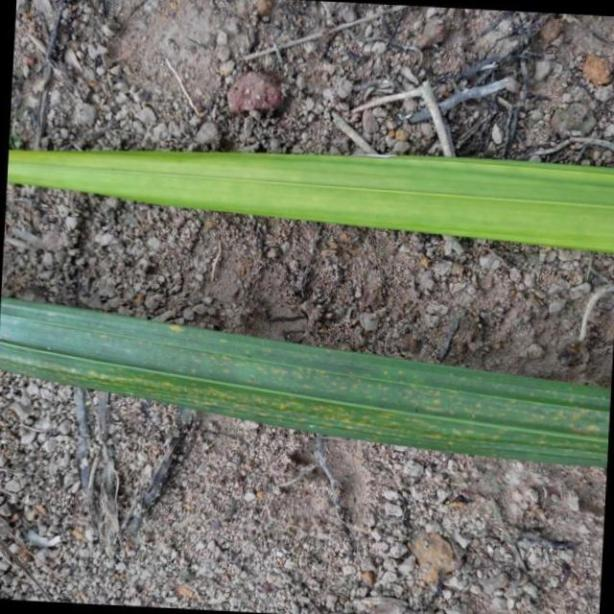nitrogen: (6, 280, 614, 473), (6, 106, 614, 251)
